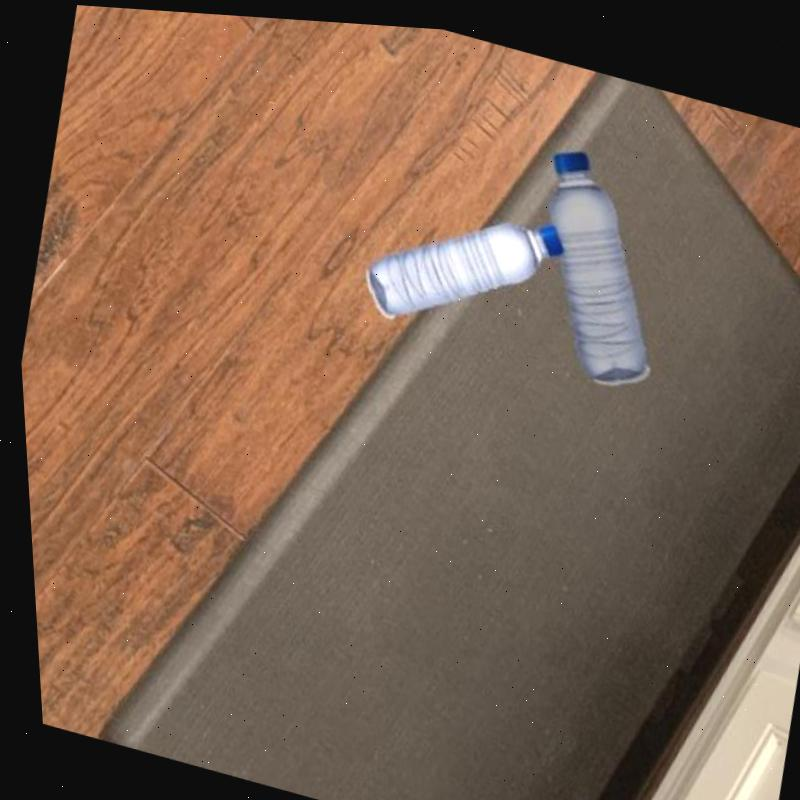botella: (506, 136, 686, 390), (346, 163, 572, 357)
